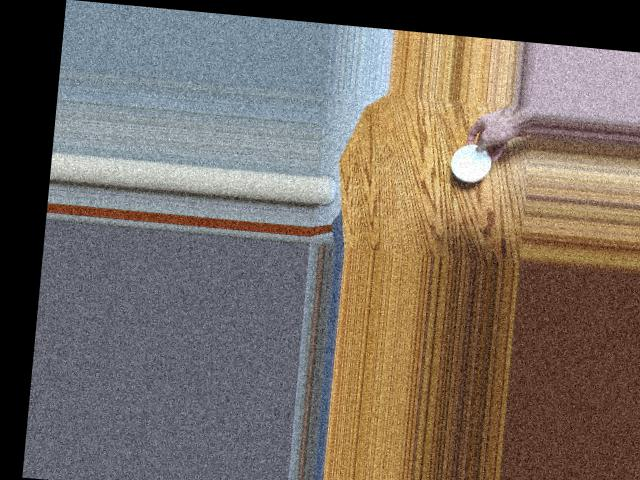cotage: (445, 136, 499, 184)
